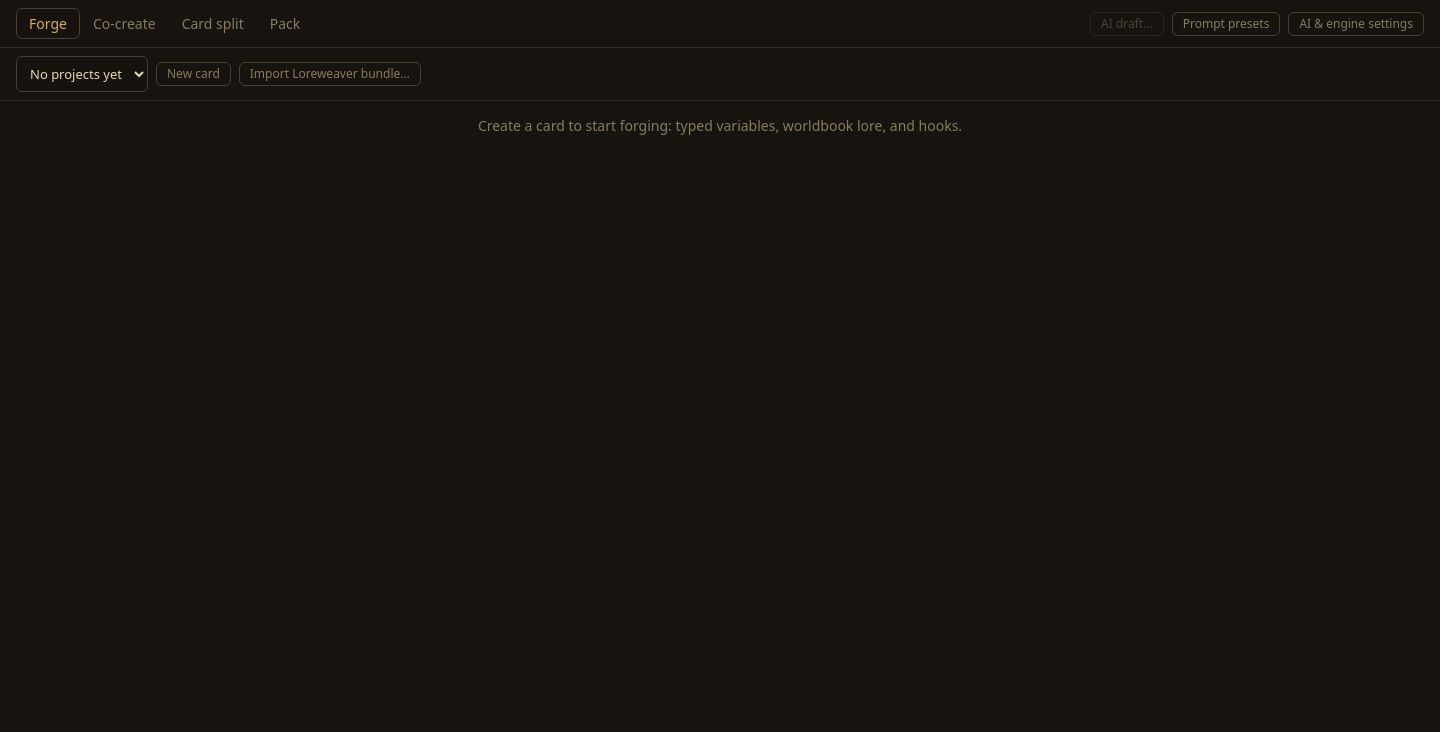
Test: StudioView › adds and edits a worldbook entry
Step 1. Click the button "New card" → (193, 74), box [156,62,231,86]
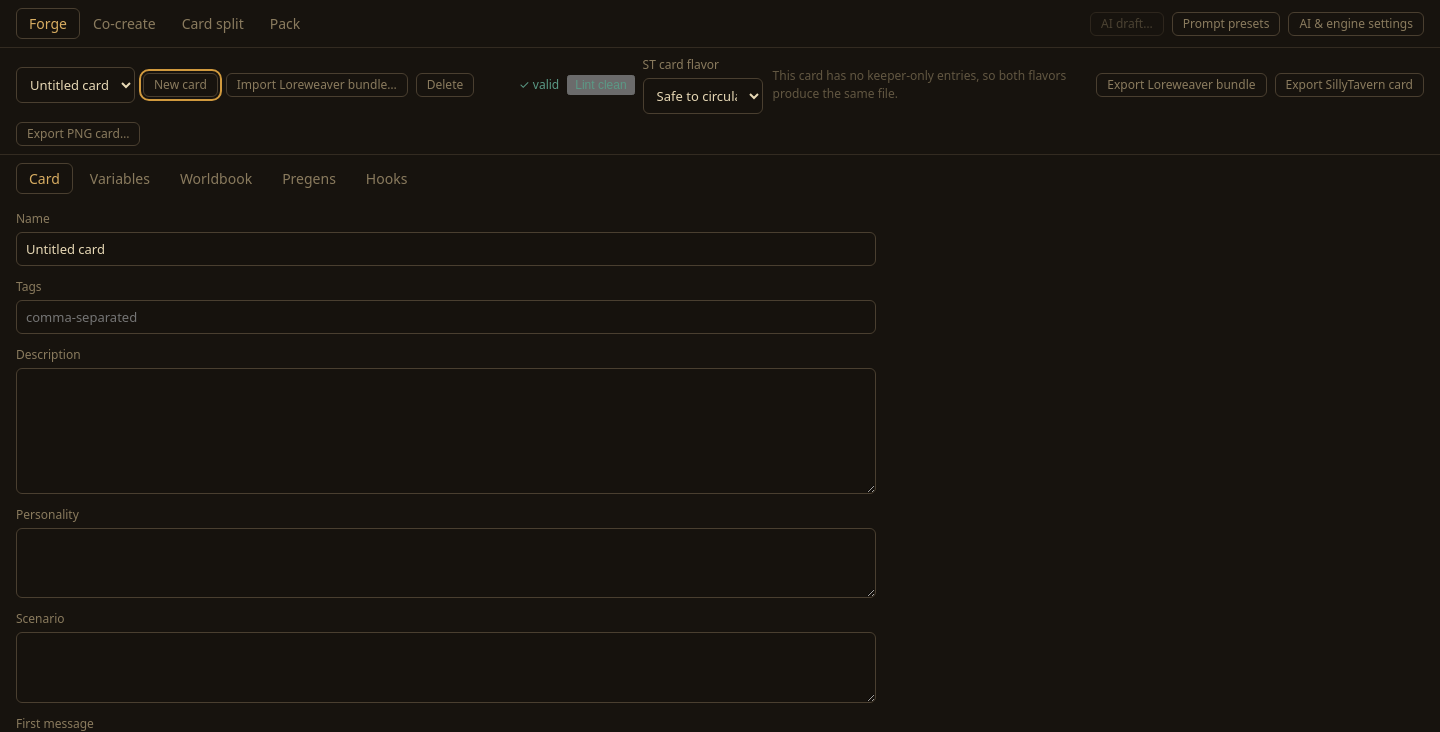
Step 2. Click the button "Worldbook" → (216, 178), box [167,163,265,194]
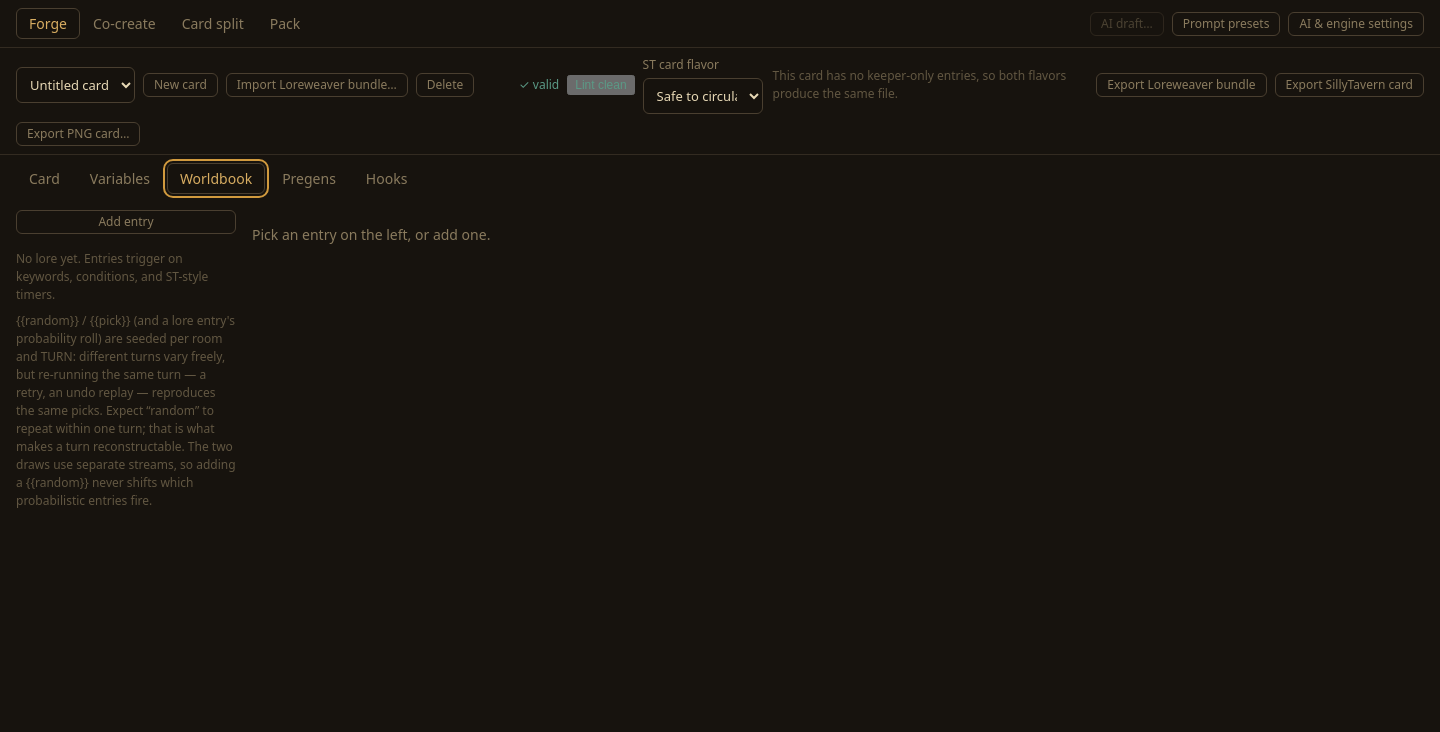
Step 3. Click the button "Add entry" → (126, 222), box [16,210,236,234]
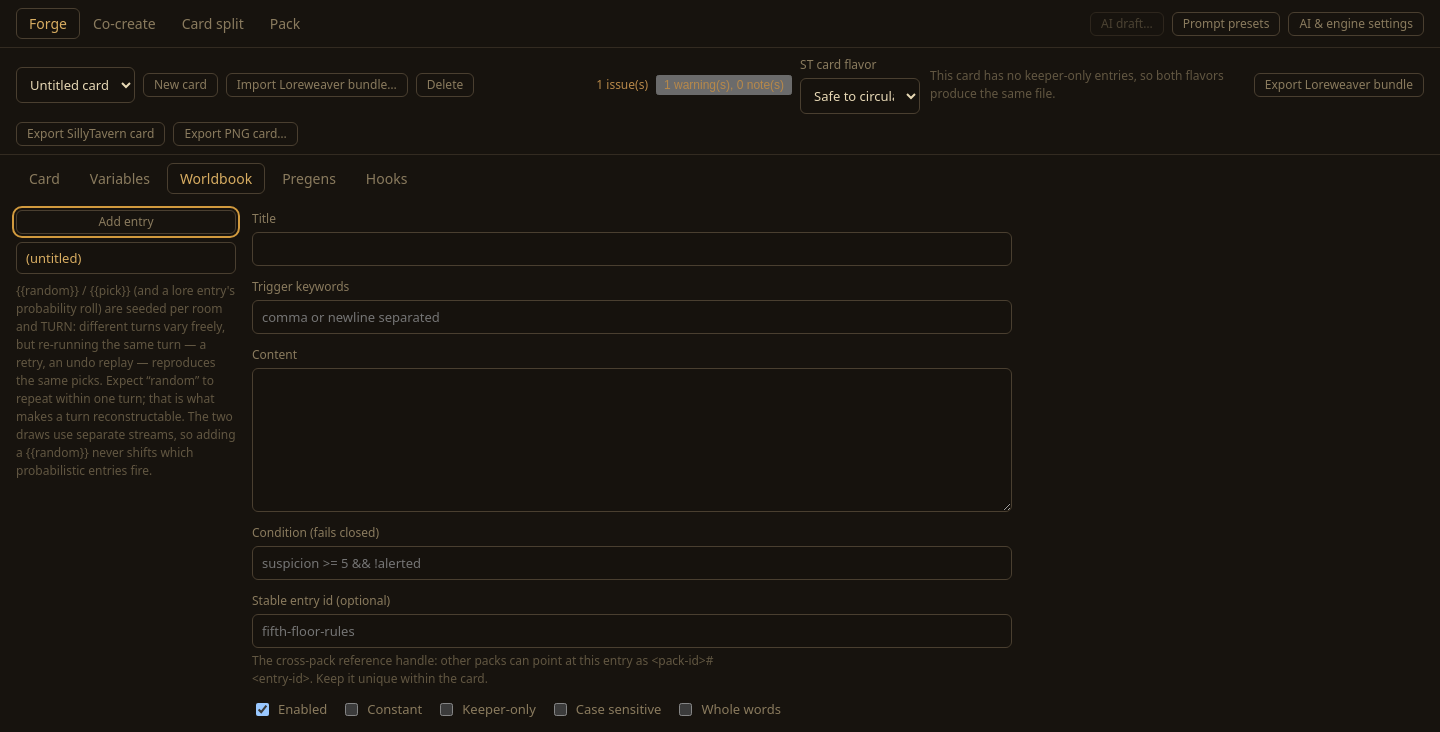
Step 4. Type "The Well" into the field labelled "Title" → (632, 249), box [252,232,1012,266]
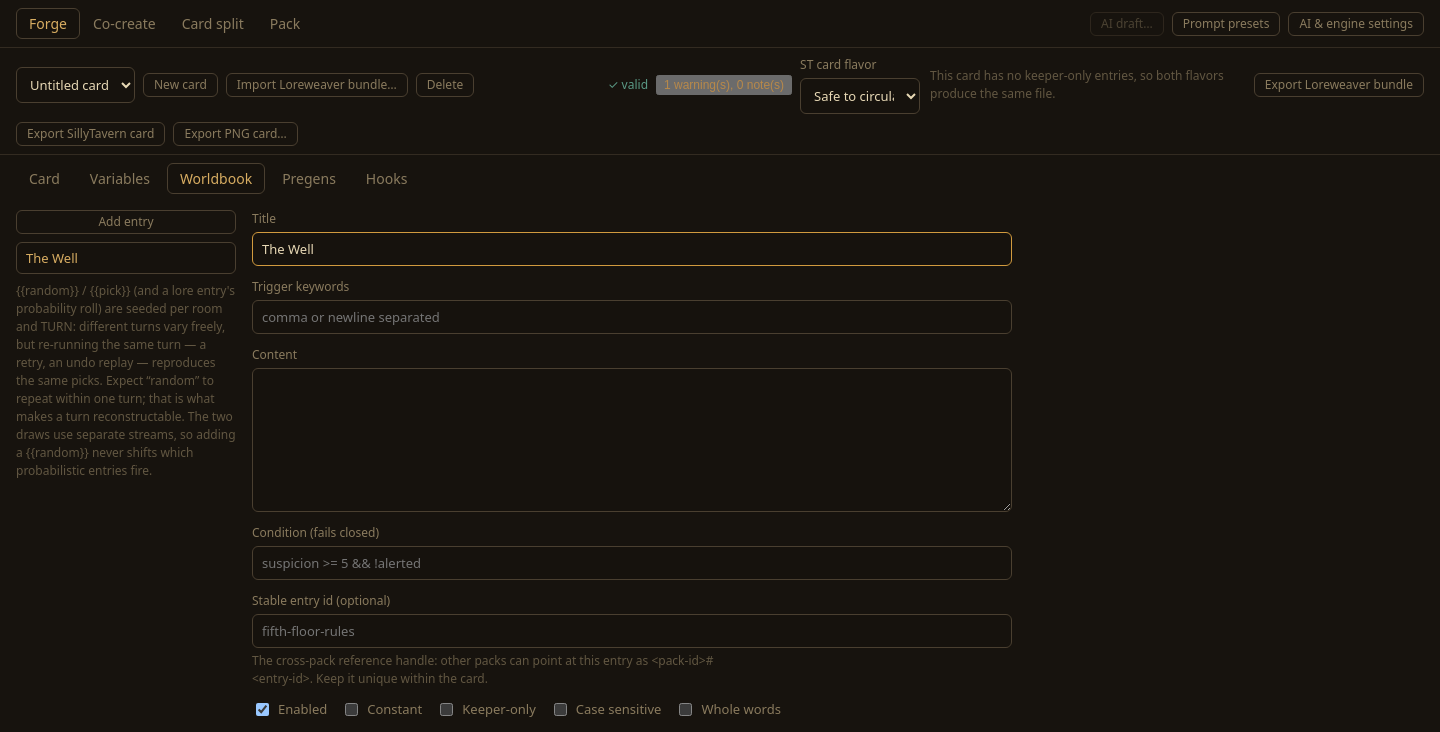
Check: the button "The Well" is shown, box [16,242,236,274]
